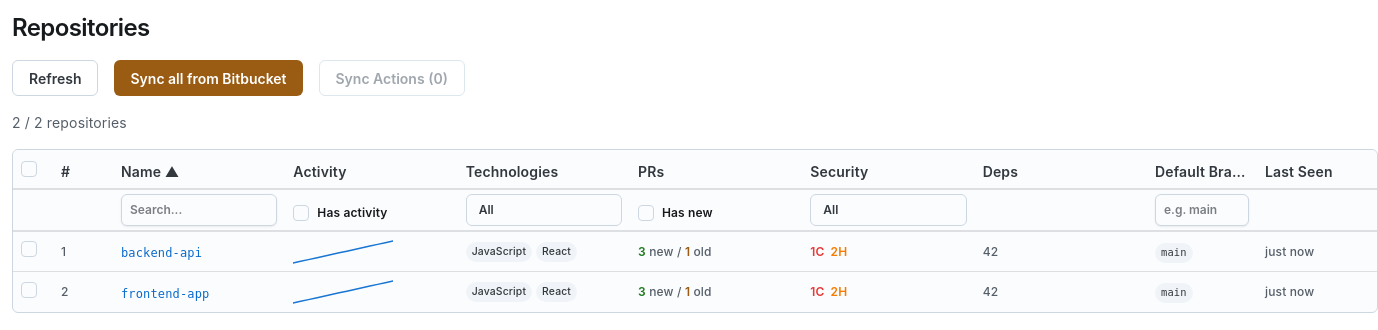
AdminReposPage › filters repos by name
Expected: the link "frontend-app" is shown, [121, 284, 210, 302]
Expected: the link "backend-api" is shown, [121, 244, 202, 262]
In the field with placeholder "Search...": [199, 210] box [130, 195, 268, 225], type "frontend"
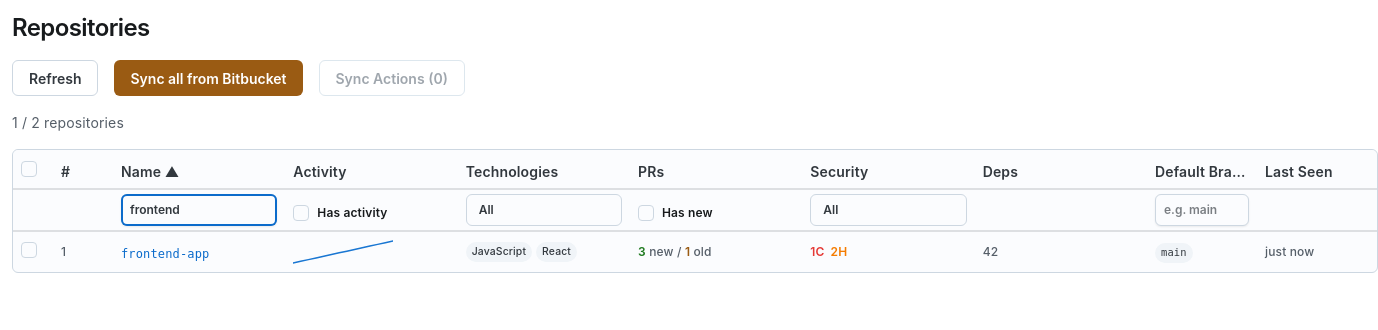
Expected: the link "frontend-app" is shown, [121, 244, 210, 262]
Result: the link "backend-api" is gone
Result: the text "1 / 2 repositories" is shown at [12, 112, 124, 133]
